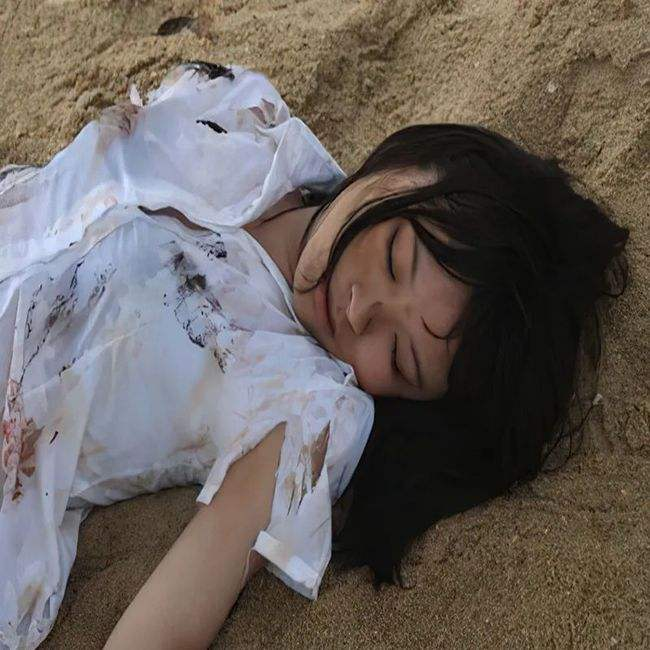person: (36, 92, 576, 407)
